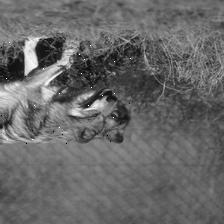WOLF: (0, 40, 130, 145)
